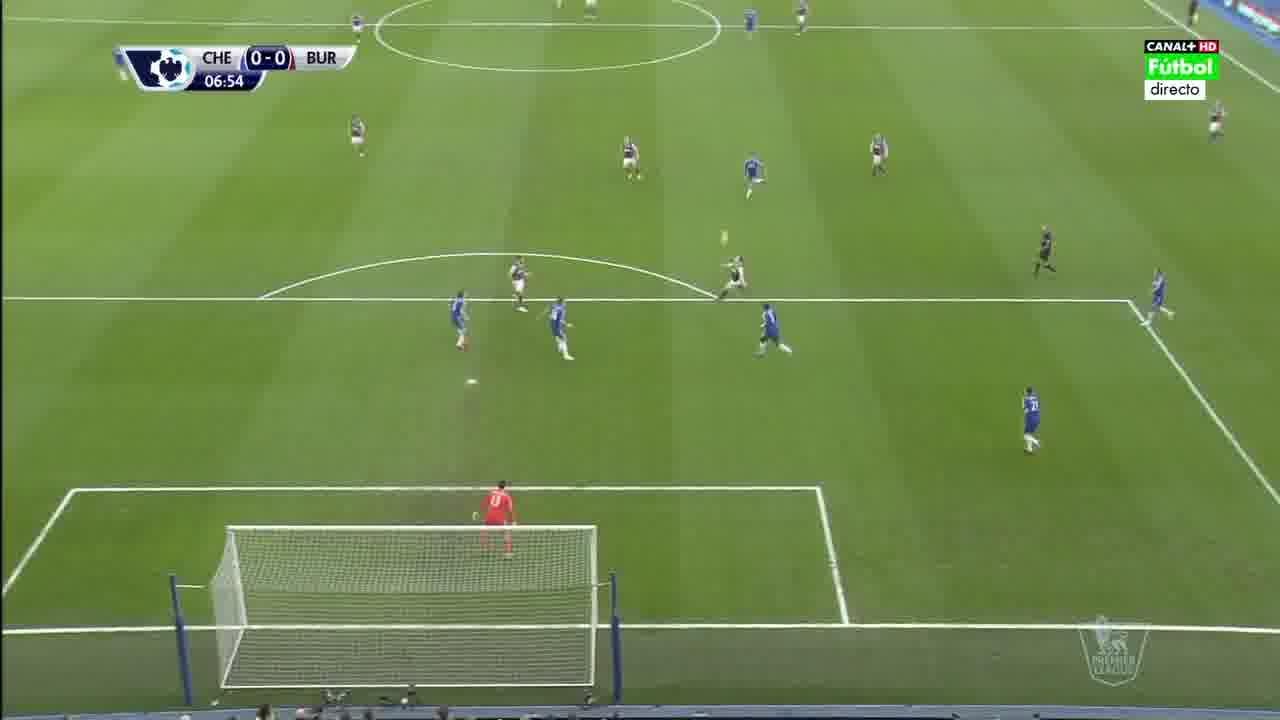football: (720, 230, 728, 245)
